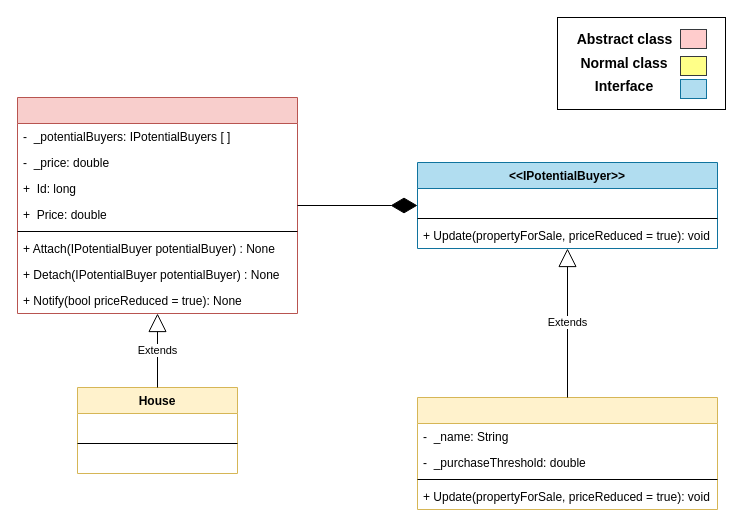
Some shapes in this 743 by 530 pixel diagram are drawn without their labels. Each missing label, with the box of its shape:
PotentialBuyer: (416, 396, 718, 510)
PropertyForSale: (16, 96, 298, 314)
